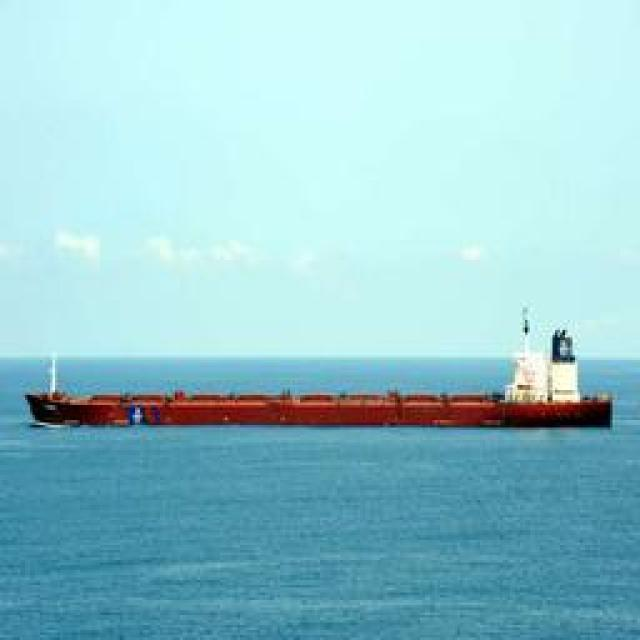CIV_Ship: (9, 388, 629, 430)
